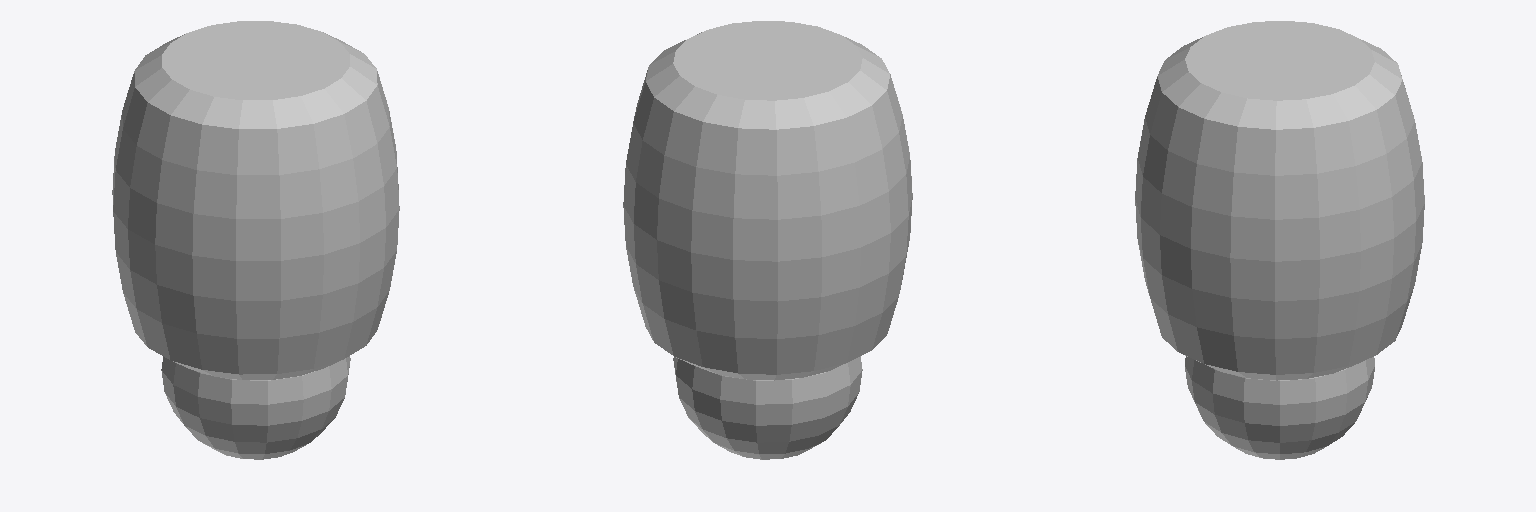
Rendered from piernaIzqArr.obj.
3 views of the same model, side by side, from view 1: azimuth 30°, elevation 25°; view 2: azimuth 150°, elevation 25°; view 3: azimuth 270°, elevation 25° (orthographic).
Parts seen in each view (by area): view 1: BalloonBoy.009; view 2: BalloonBoy.009; view 3: BalloonBoy.009.
Part boxes in pixels (left/top/right/bottom): BalloonBoy.009: left=112, top=21, right=399, bottom=459; BalloonBoy.009: left=623, top=21, right=912, bottom=459; BalloonBoy.009: left=1135, top=21, right=1424, bottom=459.
Size of the model in its own units: 6.84 by 10.17 by 6.84.